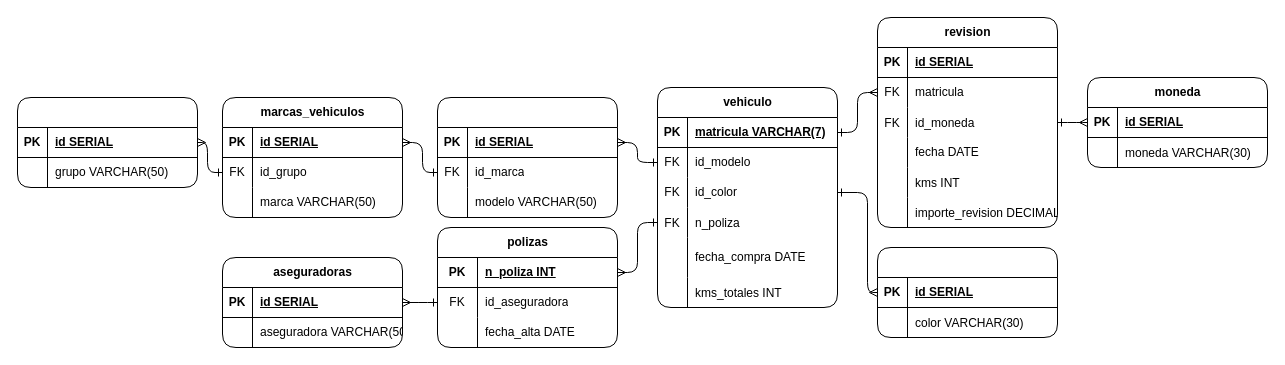
This 1285x365 diagram has some shape labels left out. Each missing label, with the box of its shape:
colores: (876, 246, 1058, 338)
grupos_vehiculos: (16, 96, 198, 188)
modelos_vehiculo: (436, 96, 618, 218)
